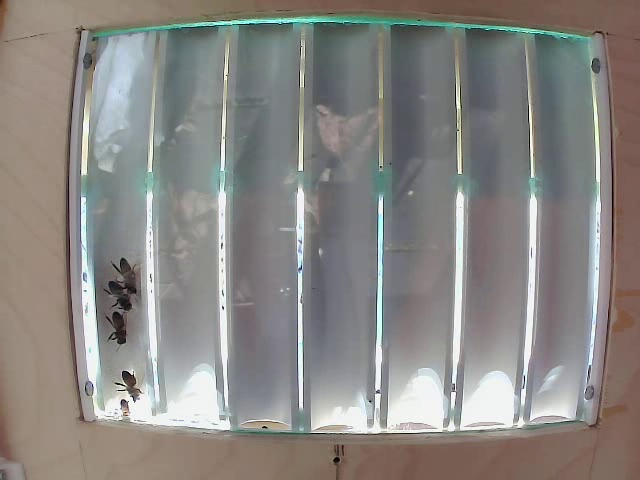bee: (113, 251, 144, 298), (101, 276, 136, 317), (108, 302, 141, 345), (116, 366, 151, 403)
